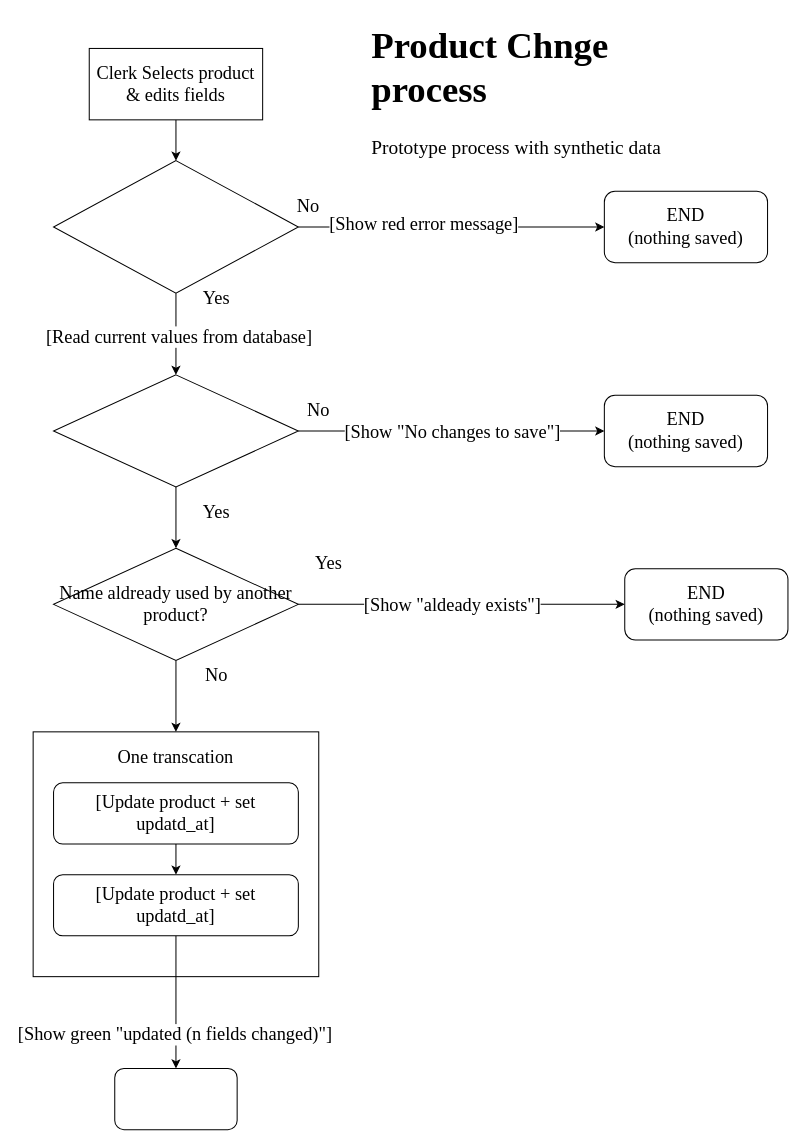
The diagram is 806 pixels wide and 1148 high, and some of its shapes have lost their labels. The centre of each missing label's shape, as x and y in pixels:
Any Field Change?: pixel 175 430
END: pixel 175 1098
Input Valid? (Valid_Product + user name): pixel 175 226
